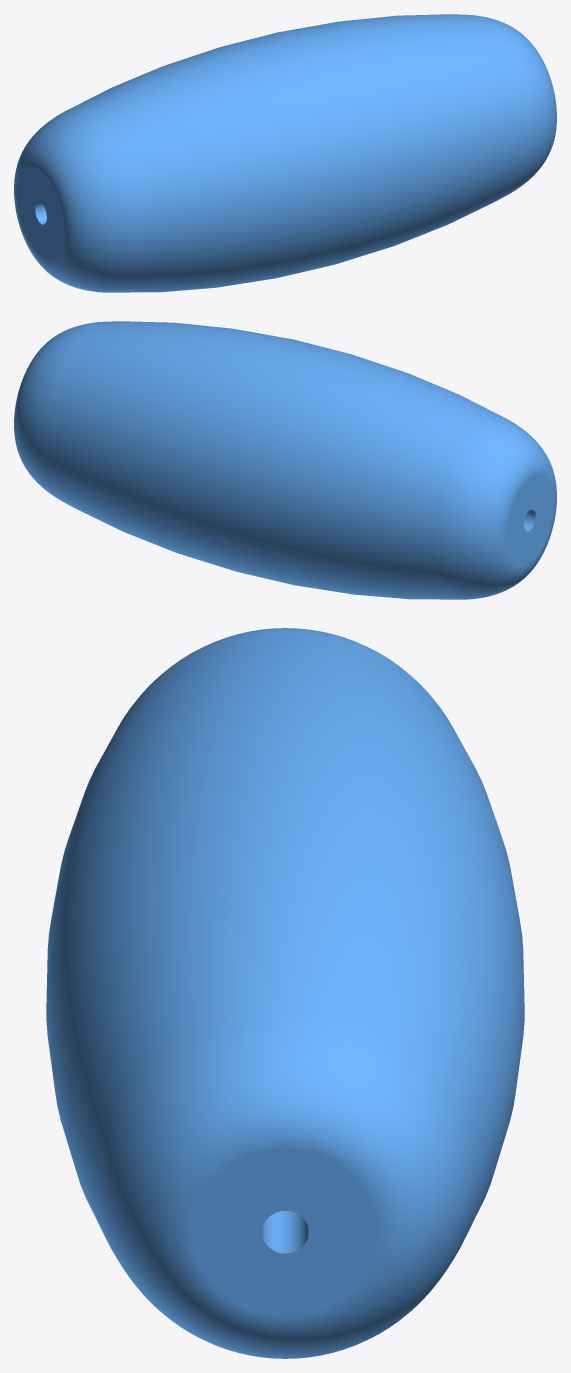
File: Ovaal blauw groot.glb
3 views of the same model, one above another, from view 1: azimuth 30°, elevation 25°; view 2: azimuth 150°, elevation 25°; view 3: azimuth 270°, elevation 25° (orthographic). The views are drawn at different scales.
Size of the model in its own units: 0.0355 by 0.0151 by 0.0151.
